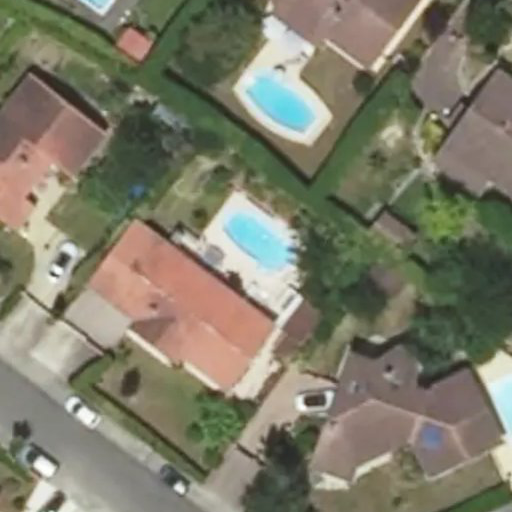pool: (218, 234, 293, 248)
